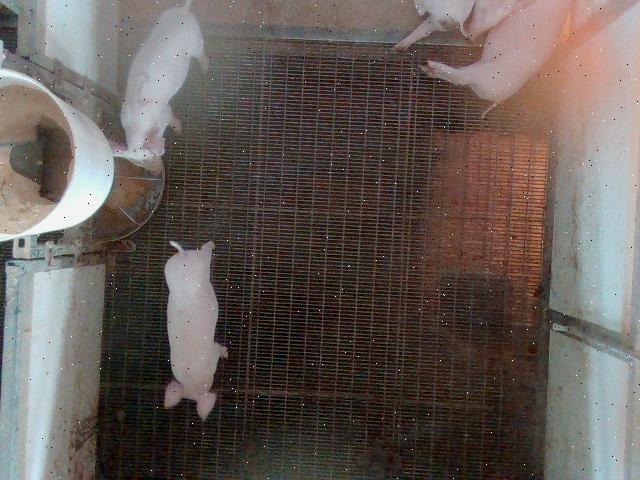pig-5: (110, 2, 209, 174)
